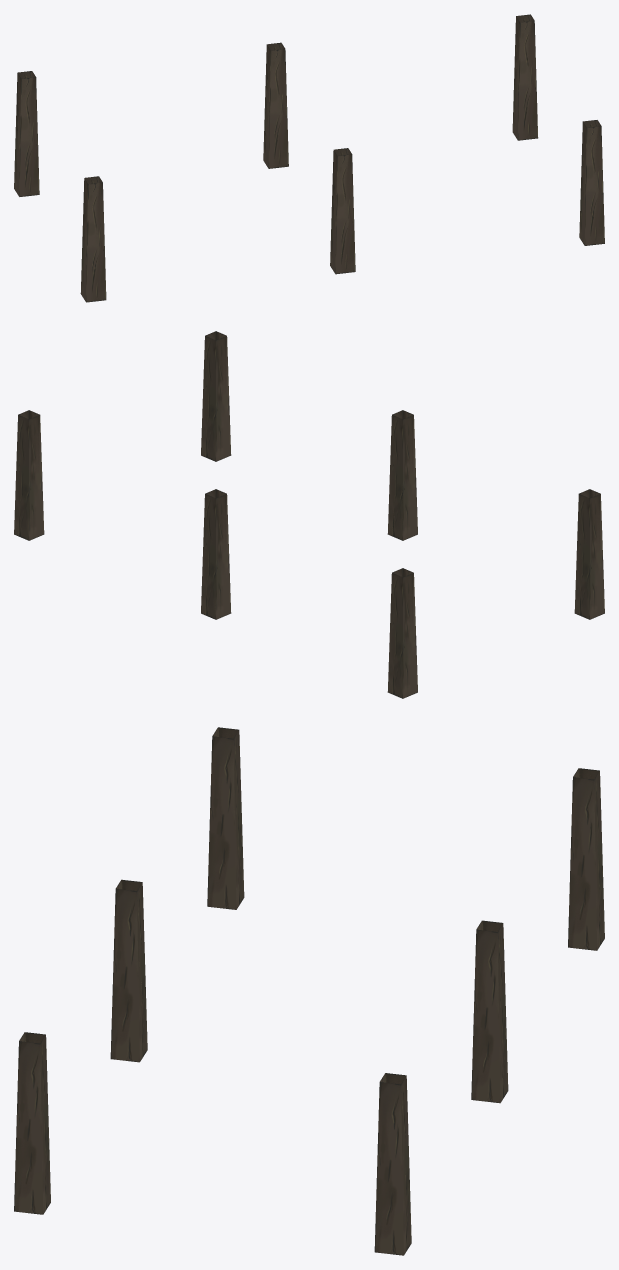
Rendered from polysurface253_txt_poutrev_base_0_lev1_lev2.glb.
3 renders of one model, top to bottom at view 1: azimuth 30°, elevation 25°; view 2: azimuth 150°, elevation 25°; view 3: azimuth 270°, elevation 25°, orthographic. The views are drawn at different scales.
Visible parts, largest first — view 1: polysurface253_txt_poutrev_base_0_lev1_lev2; view 2: polysurface253_txt_poutrev_base_0_lev1_lev2; view 3: polysurface253_txt_poutrev_base_0_lev1_lev2.
Boxes of the visible parts, x1,y1,x2,y2 form: polysurface253_txt_poutrev_base_0_lev1_lev2: (14,14,604,302); polysurface253_txt_poutrev_base_0_lev1_lev2: (14,331,604,698); polysurface253_txt_poutrev_base_0_lev1_lev2: (14,727,604,1255).
Bounding box in the file's own units: 14.05 × 3.07 × 9.71.
Materials: 1 (1 with a texture image).
